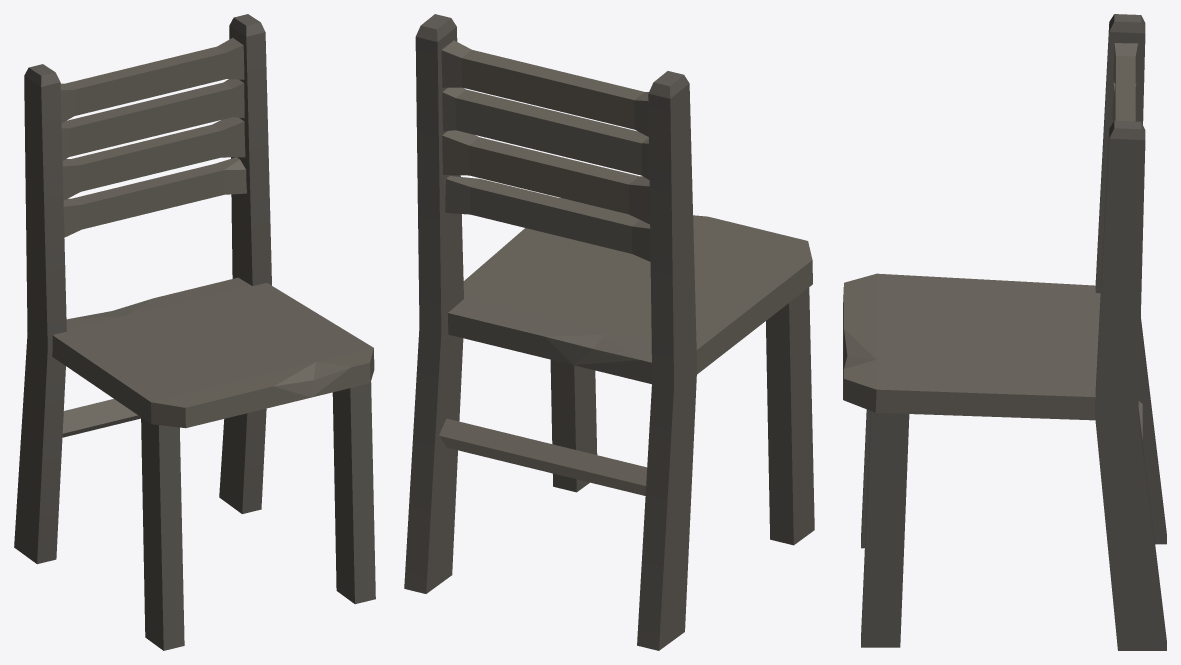
Rendered from SM_Prop_Chair_03.glb.
3 renders of one model, left to right at view 1: azimuth 30°, elevation 25°; view 2: azimuth 150°, elevation 25°; view 3: azimuth 270°, elevation 25°, orthographic. The views are drawn at different scales.
Visible parts, largest first — view 1: SM_Prop_Chair_03; view 2: SM_Prop_Chair_03; view 3: SM_Prop_Chair_03.
Part boxes in pixels (bbox=[...]): SM_Prop_Chair_03: bbox=[14, 14, 375, 650]; SM_Prop_Chair_03: bbox=[404, 14, 814, 650]; SM_Prop_Chair_03: bbox=[843, 14, 1166, 650].
Size of the model in its own units: 0.4687 by 0.9759 by 0.5492.
Materials: 1 (1 with a texture image).
